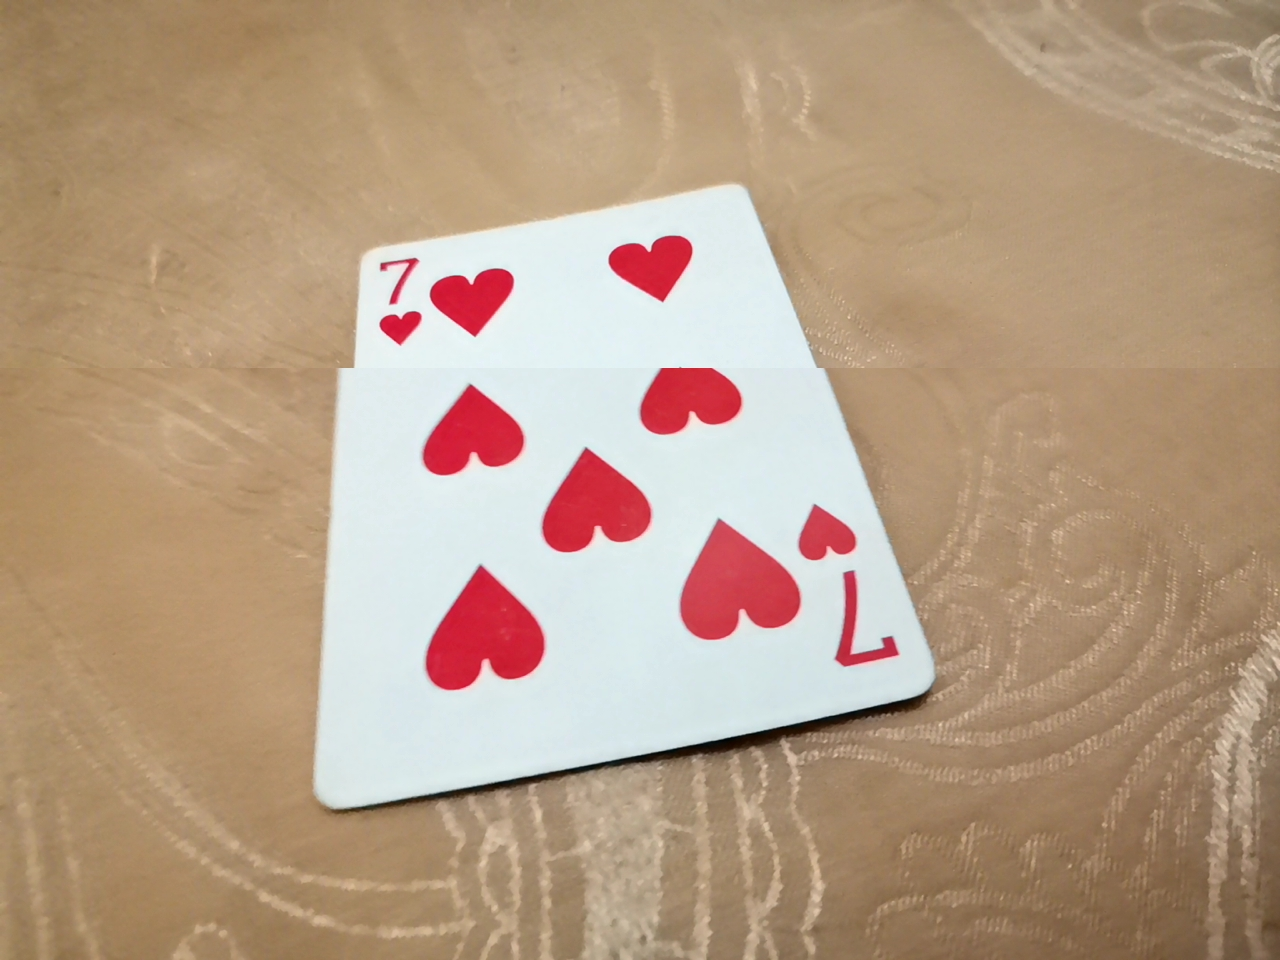hx 7: (333, 175, 932, 838)
